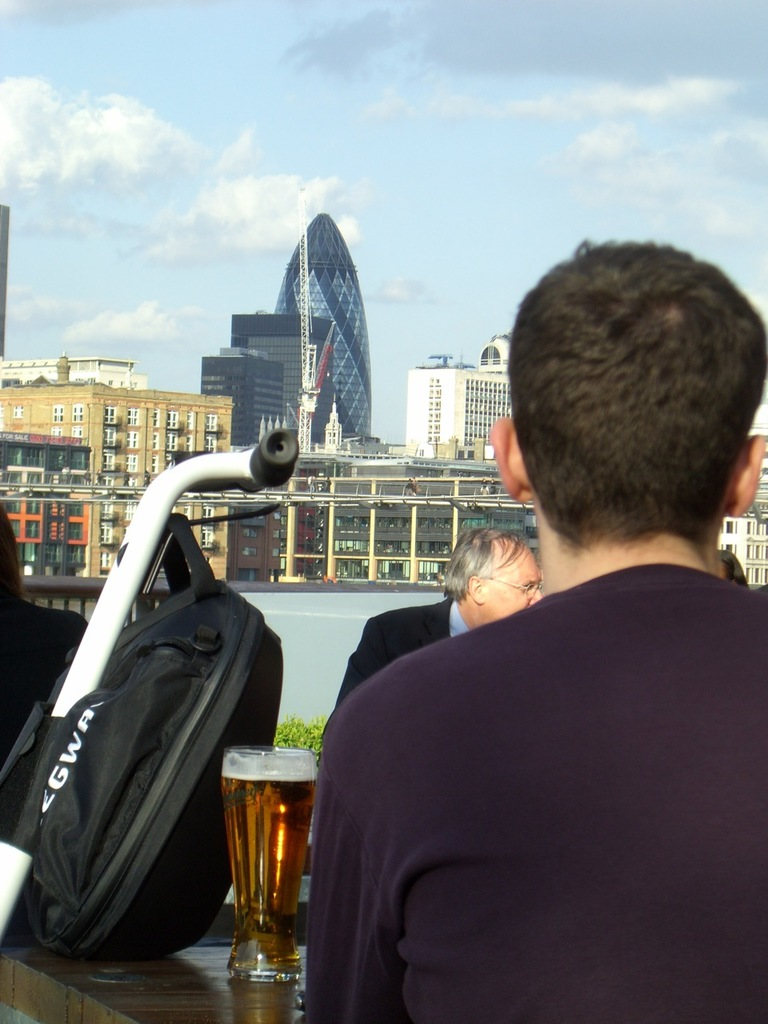Beer: (217, 733, 314, 981)
